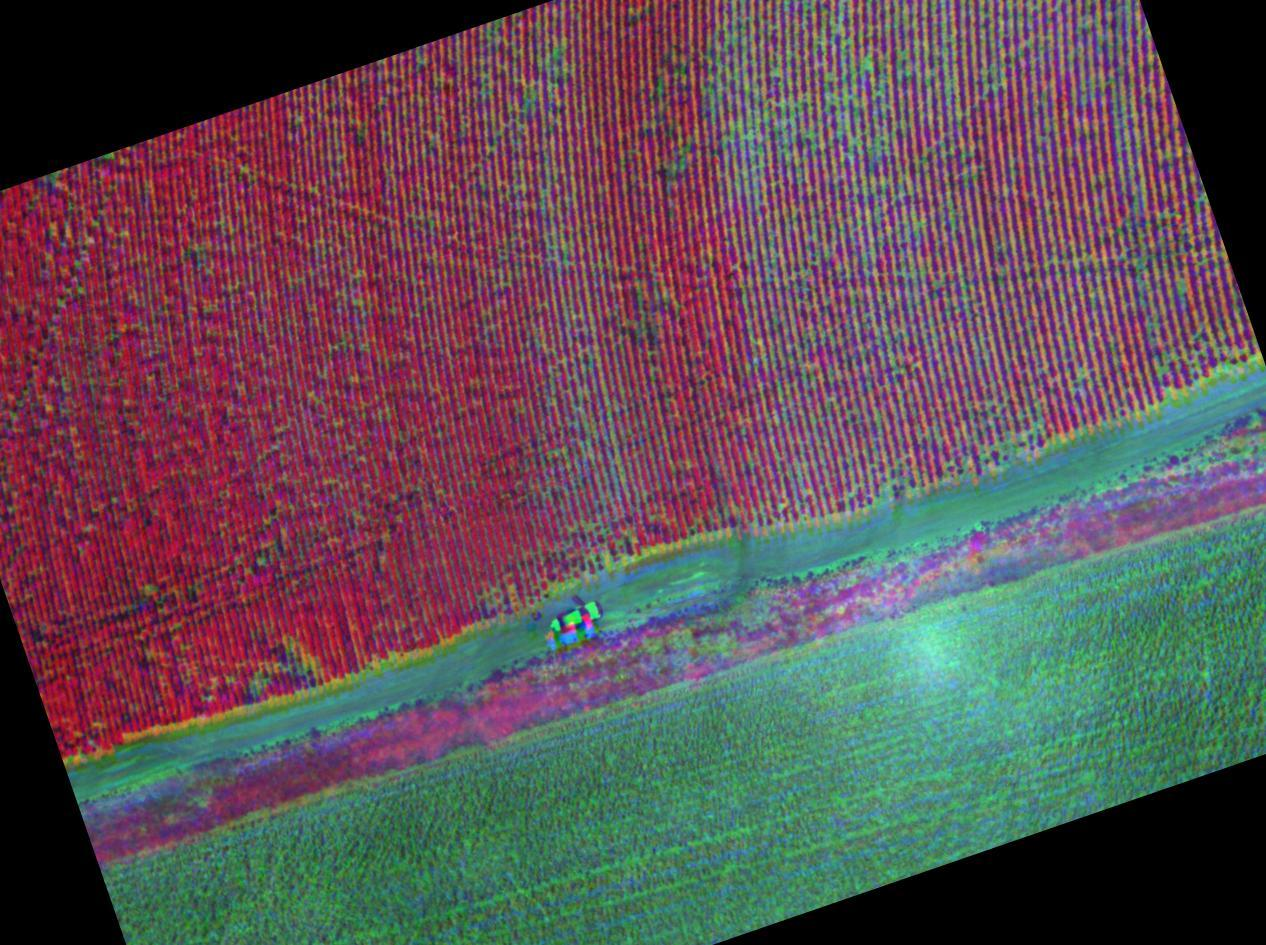dc: (858, 195, 996, 363), (701, 58, 792, 165), (961, 5, 1065, 87), (821, 48, 908, 134), (751, 190, 817, 297)
